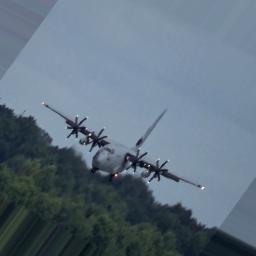Airplane: (42, 101, 205, 192)
